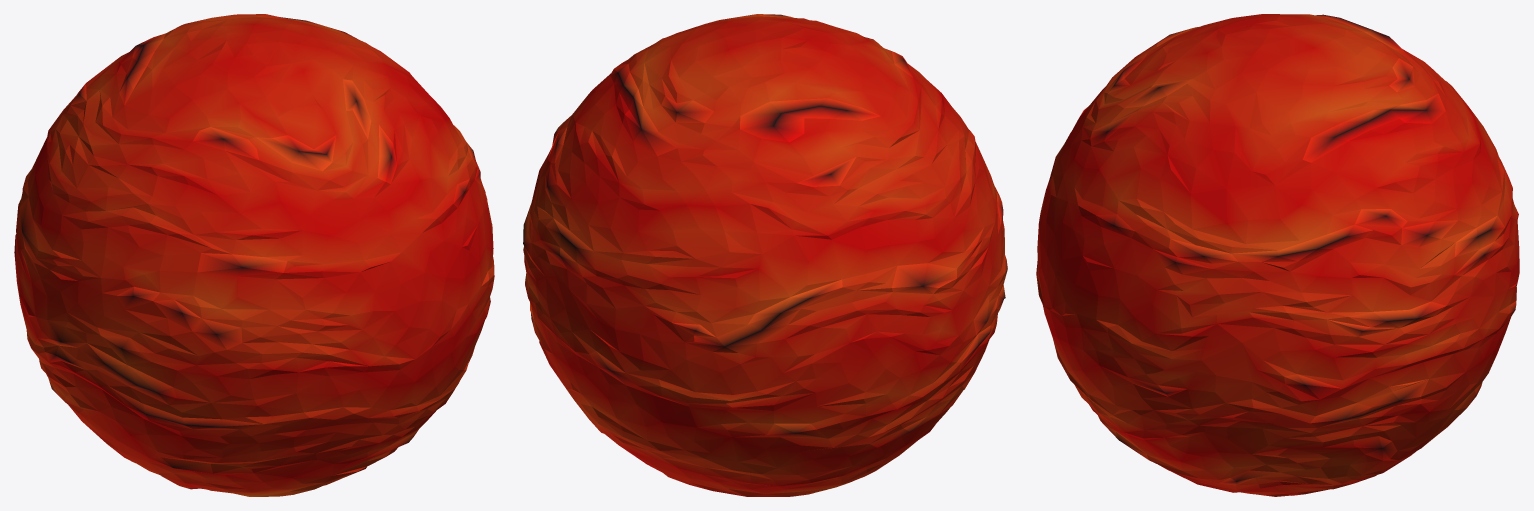
File: volcanic_planet_0.fbx
3 renders of one model, left to right at view 1: azimuth 30°, elevation 25°; view 2: azimuth 150°, elevation 25°; view 3: azimuth 270°, elevation 25°, orthographic.
Visible parts, largest first — view 1: filecache2; view 2: filecache2; view 3: filecache2.
Boxes of the visible parts, x1=… form: filecache2: x1=14, y1=14, x2=494, y2=496; filecache2: x1=523, y1=14, x2=1007, y2=496; filecache2: x1=1036, y1=14, x2=1519, y2=496.
Bounding box in the file's own units: 2.01 × 2.02 × 2.01.
